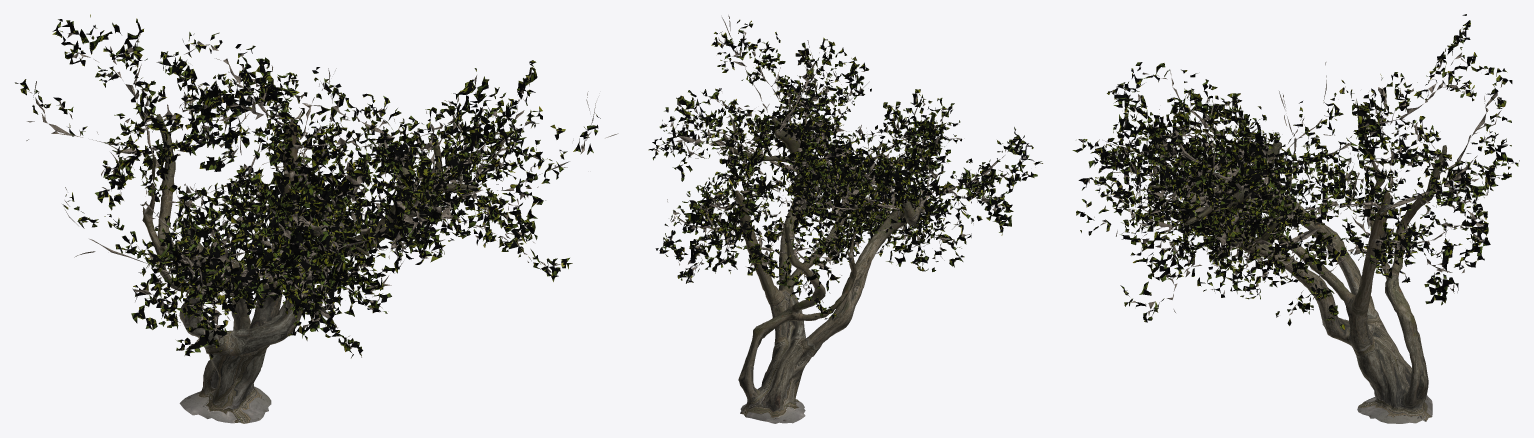
Rendered from IslandTree_LOD1.glb.
3 views of the same model, side by side, from view 1: azimuth 30°, elevation 25°; view 2: azimuth 150°, elevation 25°; view 3: azimuth 270°, elevation 25° (orthographic). The views are drawn at different scales.
Size of the model in its own units: 4.02 by 3.38 by 4.05.
Materials: 3 (3 with a texture image).
